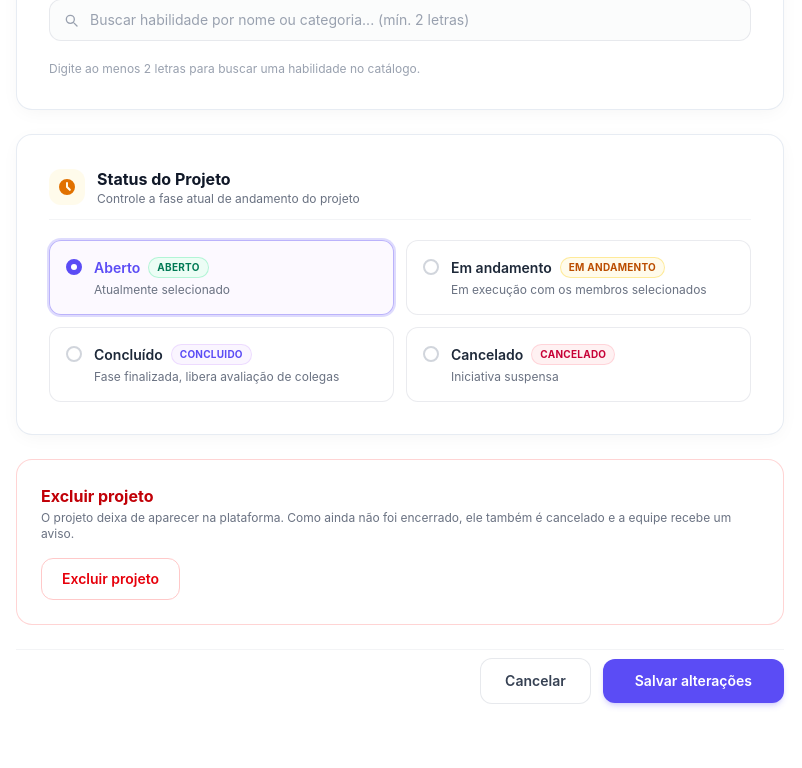
Test: EditarProjeto › mostra o erro do backend e permanece na página quando a exclusão falha
(page scrolled)
Click the button "Excluir projeto" at (111, 579), box x1=41 y1=558 x2=180 y2=600
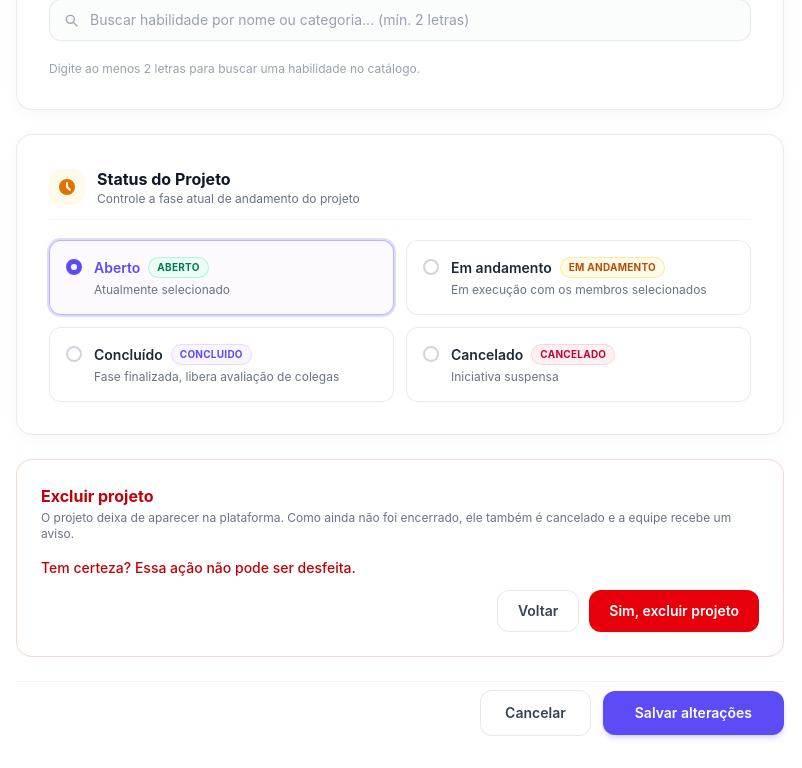
Click the button "Sim, excluir projeto" at (674, 611), box x1=589 y1=590 x2=759 y2=632
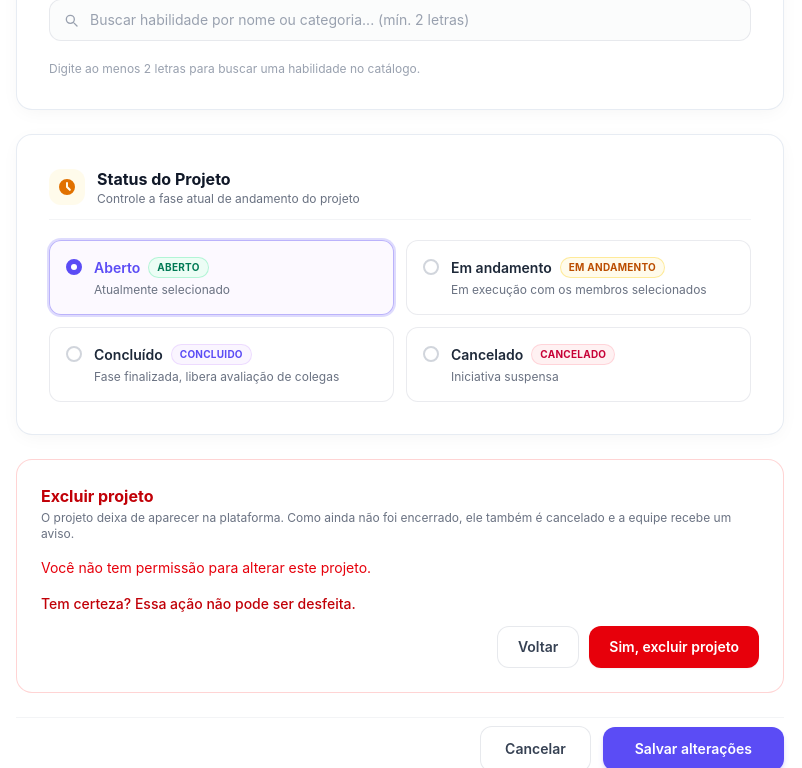
Expected: the text "Você não tem permissão para alterar este projeto." is shown, x1=41 y1=559 x2=371 y2=576
